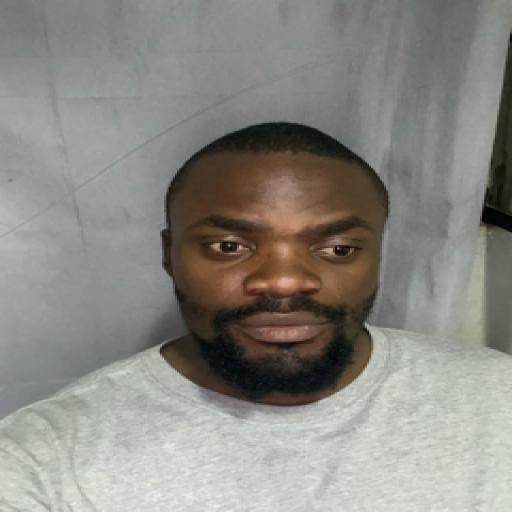JEANLUC: (160, 108, 392, 418)
